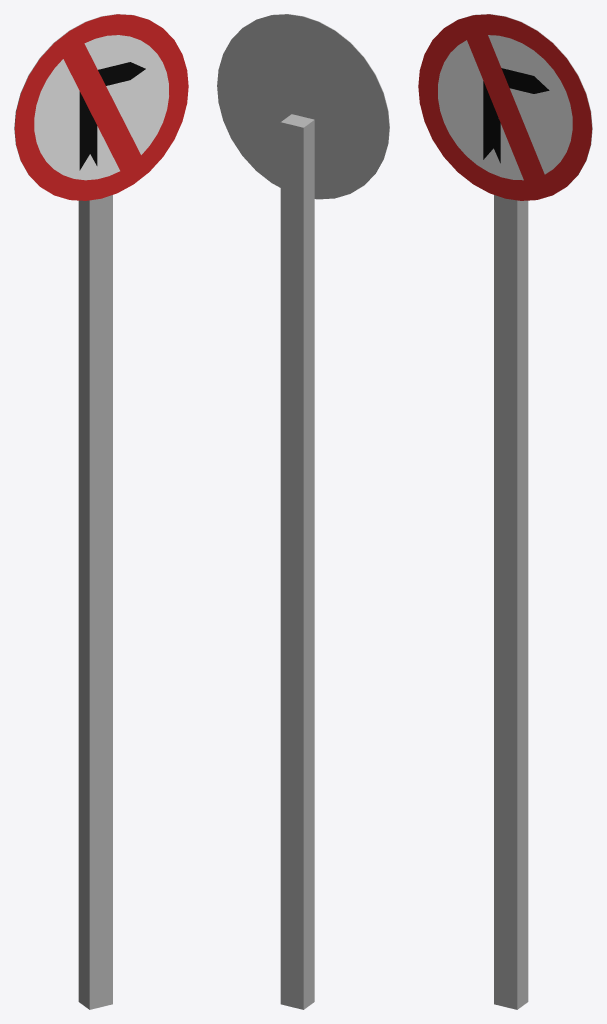
Rendered from noright.DAE.
The picture shows the model from 3 angles, left to right: view 1: azimuth 30°, elevation 25°; view 2: azimuth 150°, elevation 25°; view 3: azimuth 330°, elevation 25°; orthographic projection.
Parts seen in each view (by area): view 1: saFBXASC196FBXASC159aFBXASC032dFBXASC195FBXASC182nFBXASC195F; view 2: saFBXASC196FBXASC159aFBXASC032dFBXASC195FBXASC182nFBXASC195F; view 3: saFBXASC196FBXASC159aFBXASC032dFBXASC195FBXASC182nFBXASC195F.
Boxes of the visible parts, x1,y1,x2,y2 form: saFBXASC196FBXASC159aFBXASC032dFBXASC195FBXASC182nFBXASC195F: (14, 14, 188, 1009); saFBXASC196FBXASC159aFBXASC032dFBXASC195FBXASC182nFBXASC195F: (217, 14, 389, 1009); saFBXASC196FBXASC159aFBXASC032dFBXASC195FBXASC182nFBXASC195F: (418, 14, 592, 1009).
Bounding box in the file's own units: 17.72 × 96.46 × 2.05.
